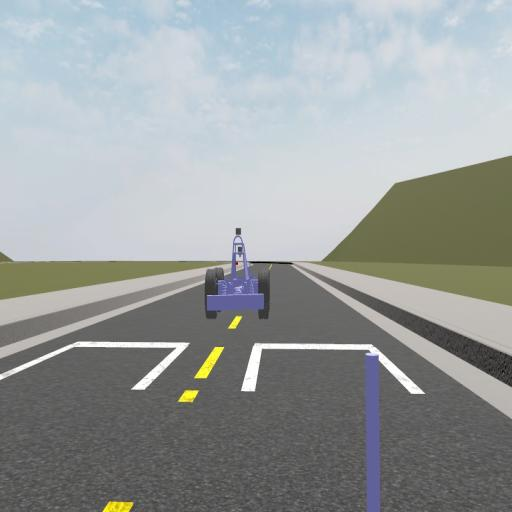ERP-42: (206, 227, 270, 318)
